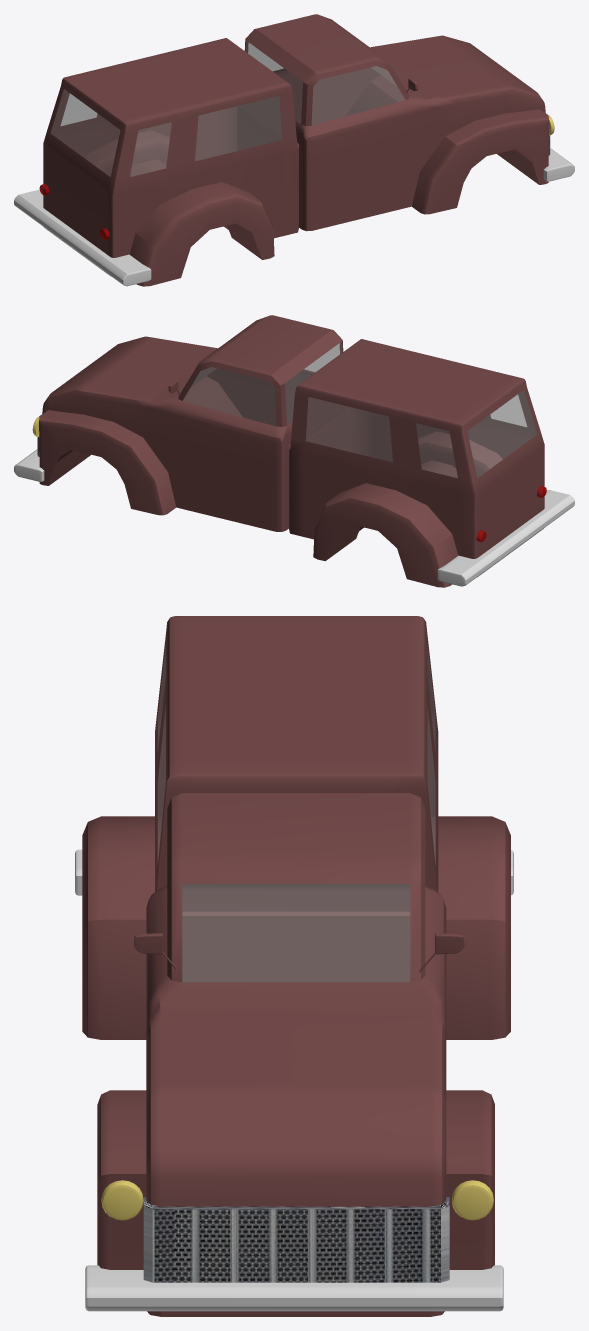
File: farmertruck.fbx
The picture shows the model from 3 angles, top to bottom: view 1: azimuth 30°, elevation 25°; view 2: azimuth 150°, elevation 25°; view 3: azimuth 270°, elevation 25°; orthographic projection. The views are drawn at different scales.
Parts seen in each view (by area): view 1: polySurface119, polySurface134, polySurface123, polySurface125; view 2: polySurface119, polySurface134, polySurface124, polySurface125; view 3: polySurface119, polySurface134, polySurface122.
Boxes of the visible parts, bbox=[...] form: polySurface119: bbox=[43, 14, 548, 286]; polySurface134: bbox=[14, 113, 574, 286]; polySurface123: bbox=[312, 66, 404, 124]; polySurface125: bbox=[246, 41, 302, 123]; polySurface119: bbox=[39, 315, 544, 587]; polySurface134: bbox=[14, 414, 574, 586]; polySurface124: bbox=[183, 367, 276, 426]; polySurface125: bbox=[285, 342, 341, 424]; polySurface119: bbox=[82, 616, 510, 1316]; polySurface134: bbox=[75, 849, 513, 1311]; polySurface122: bbox=[182, 884, 409, 981].
Bounding box in the file's own units: 15.09 × 4.84 × 6.3.
